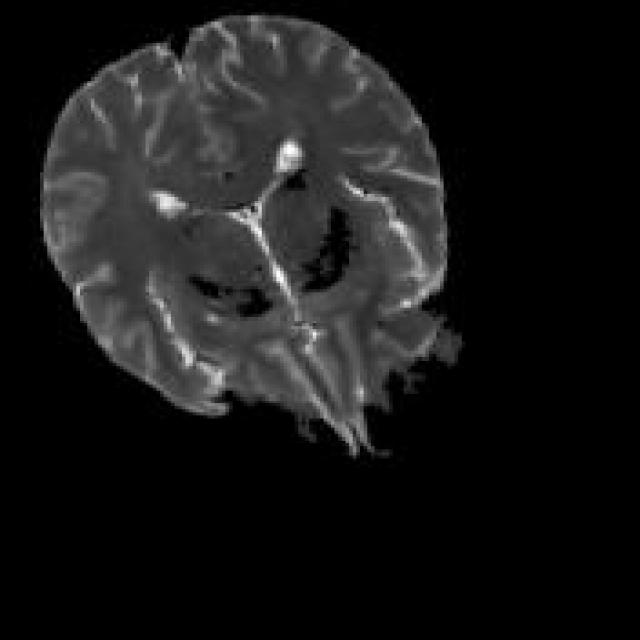parkinson: (36, 9, 462, 458)
